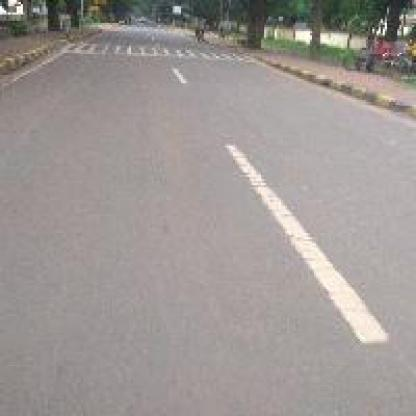Speed Bump: (56, 36, 254, 62)
